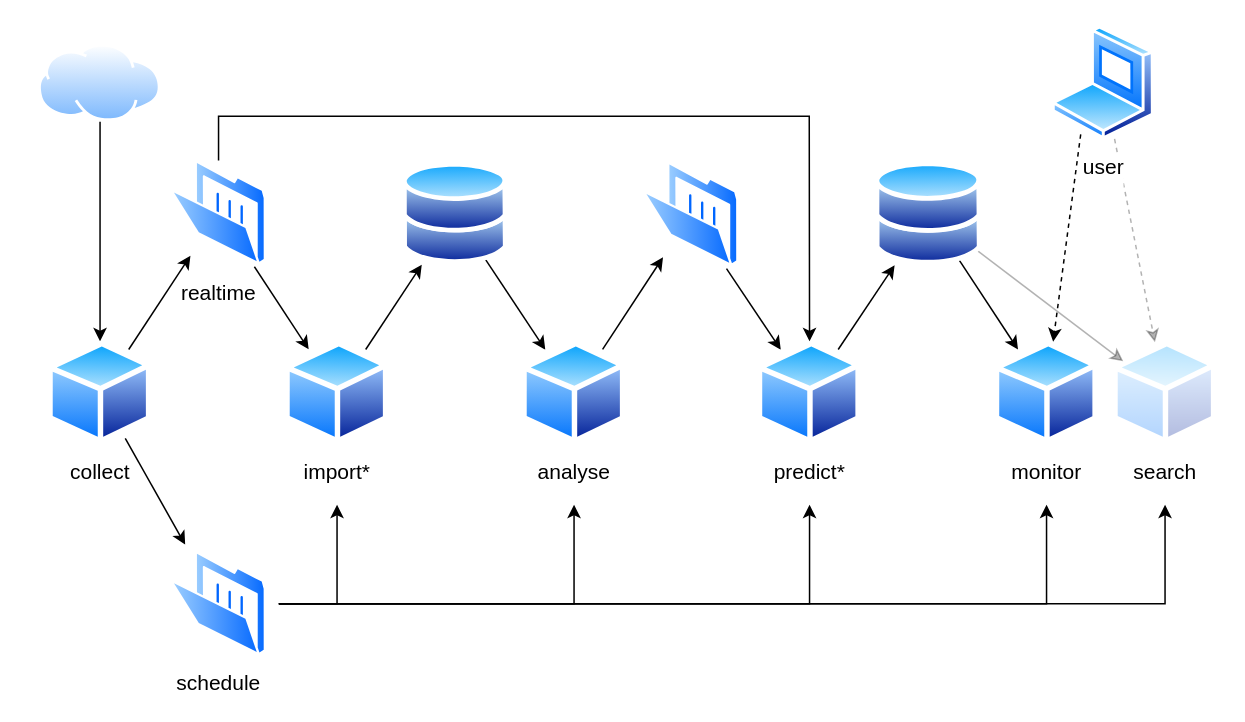
This 1245x722 diagram has some shape labels left out. Here are the shapes that lost their labels. From the top down, the box of each, then its label:
(38, 44, 161, 121): VBN Open Data
(402, 161, 508, 265): records
(642, 161, 739, 266): model
(874, 160, 982, 266): predictions
